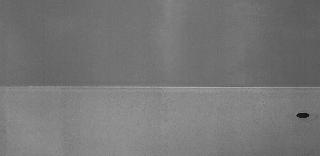punching hole: (292, 110, 312, 120)
welding line: (1, 81, 320, 96)
